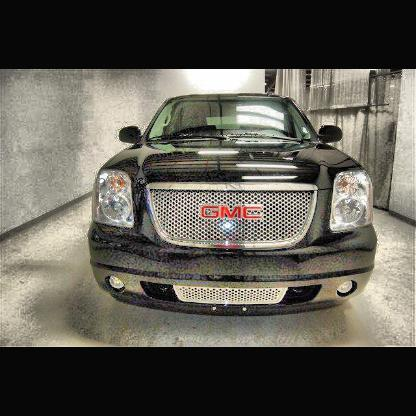GMC Yukon Hybrid SUV 2012: (90, 94, 378, 316)
